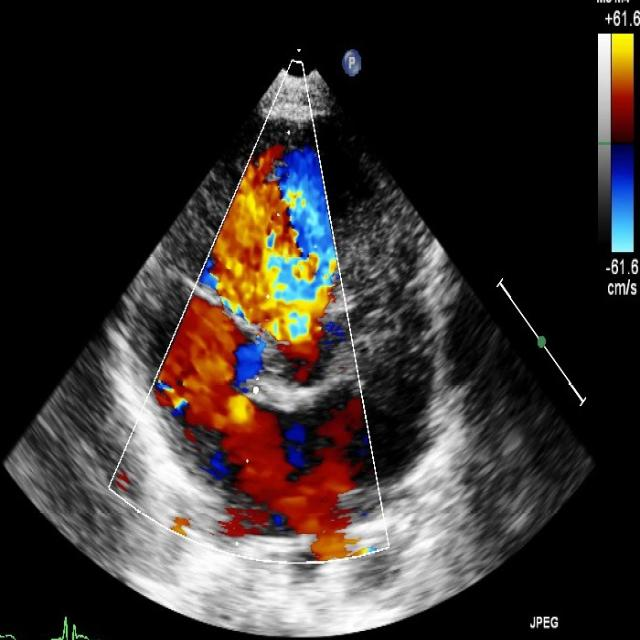VSDType2: (216, 228, 338, 363)
